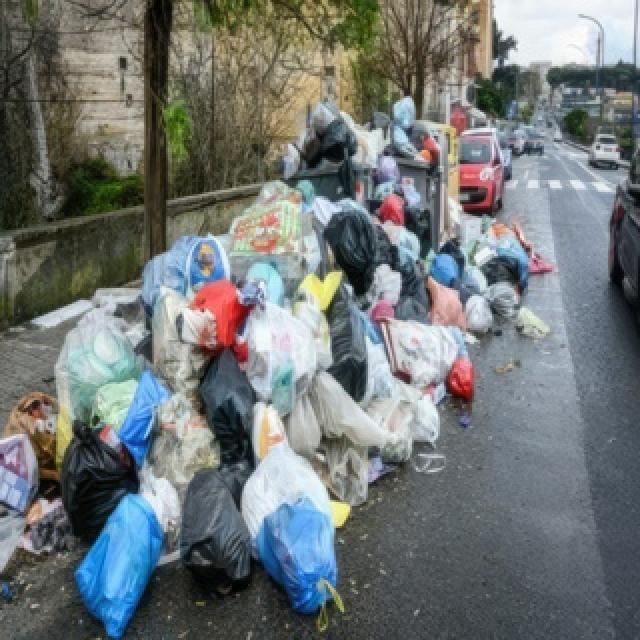high trash: (0, 98, 549, 639)
